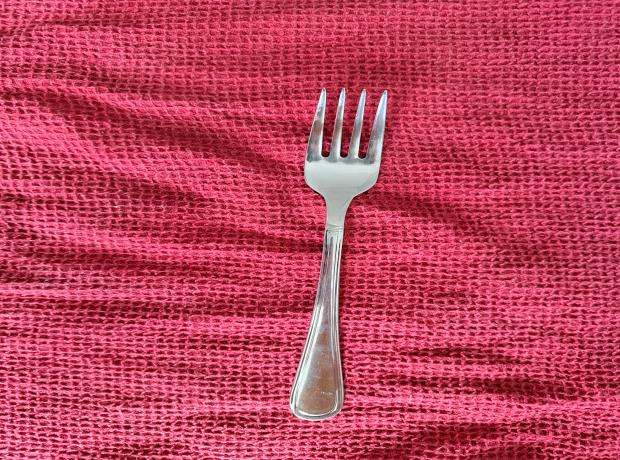metal: (292, 85, 385, 422)
